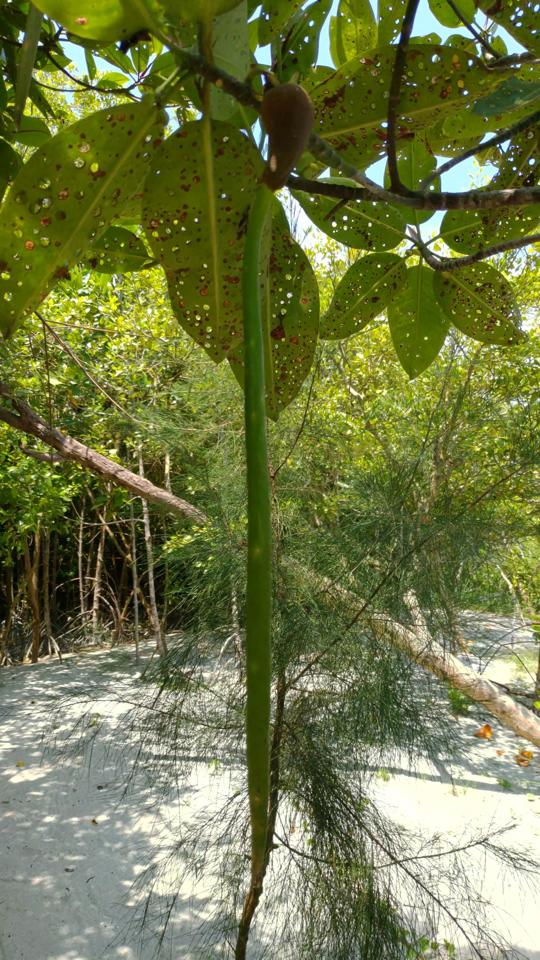mentah: (223, 56, 342, 906)
